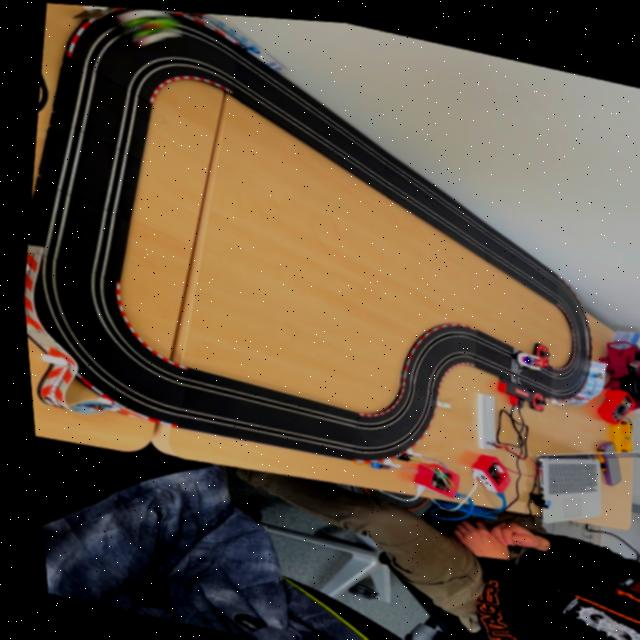mario: (505, 343, 545, 367)
yoshi: (100, 5, 193, 58)
